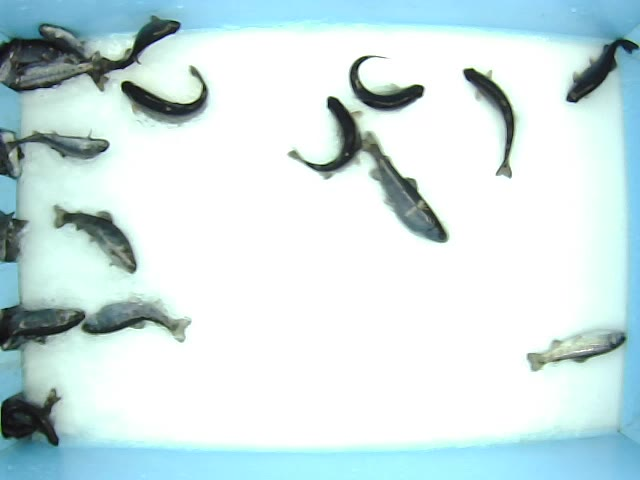fish: (359, 130, 448, 242), (458, 66, 520, 179), (286, 96, 359, 181), (51, 204, 138, 274), (80, 291, 191, 342), (121, 64, 209, 128), (561, 38, 638, 104), (349, 54, 425, 112), (526, 328, 625, 372), (113, 11, 183, 72), (15, 127, 112, 160)
